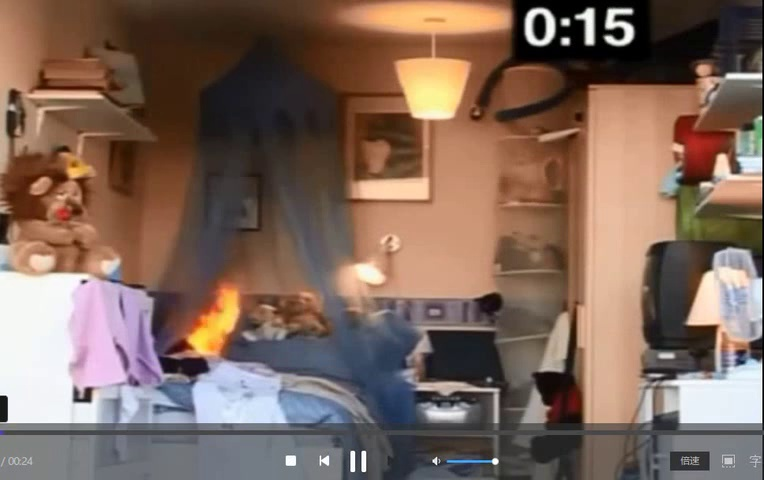fire: (177, 268, 242, 369)
